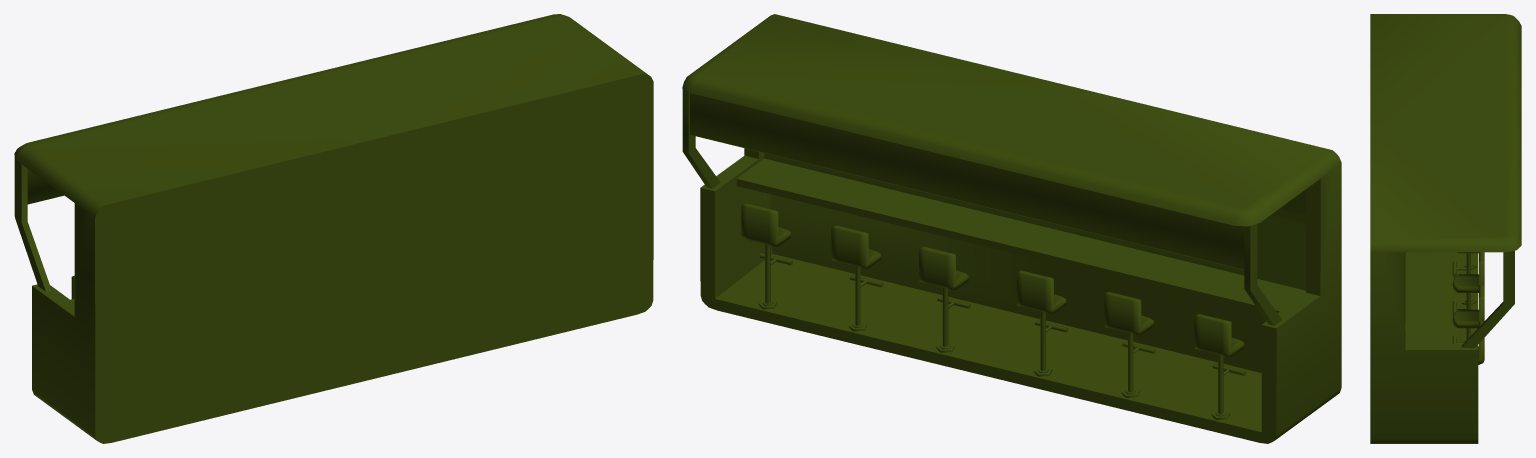
File: T1_PitWall_T1_Mobile.fbx
The picture shows the model from 3 angles, left to right: view 1: azimuth 30°, elevation 25°; view 2: azimuth 150°, elevation 25°; view 3: azimuth 270°, elevation 25°; orthographic projection. The views are drawn at different scales.
Visible parts, largest first — view 1: T2_PitWall_T1; view 2: T2_PitWall_T1; view 3: T2_PitWall_T1.
Boxes of the visible parts, bbox=[...] form: T2_PitWall_T1: bbox=[14, 14, 653, 443]; T2_PitWall_T1: bbox=[682, 14, 1341, 443]; T2_PitWall_T1: bbox=[1370, 14, 1521, 443].
Size of the model in its own units: 2.91 by 1.19 by 0.7976.
